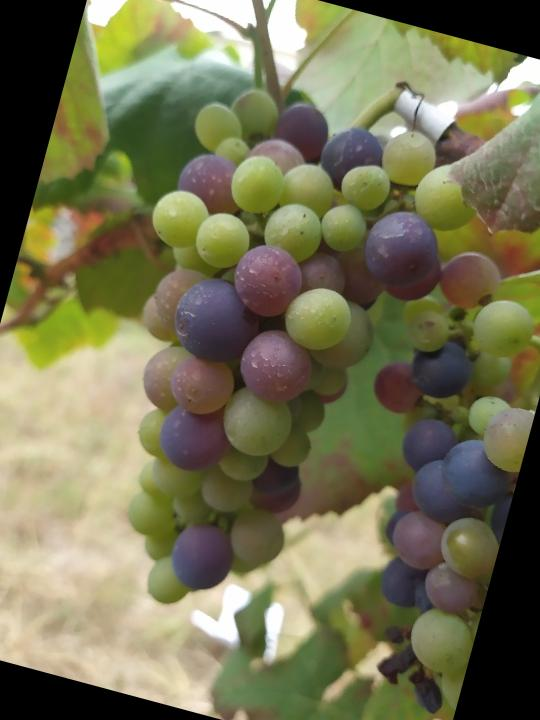grape: (53, 68, 496, 658)
